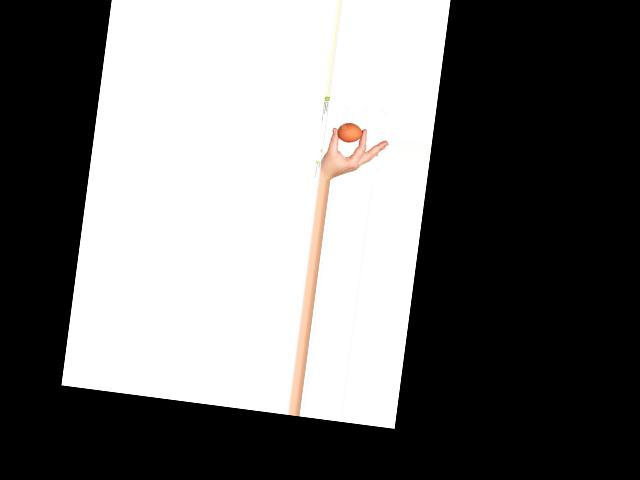egg: (335, 121, 363, 144)
